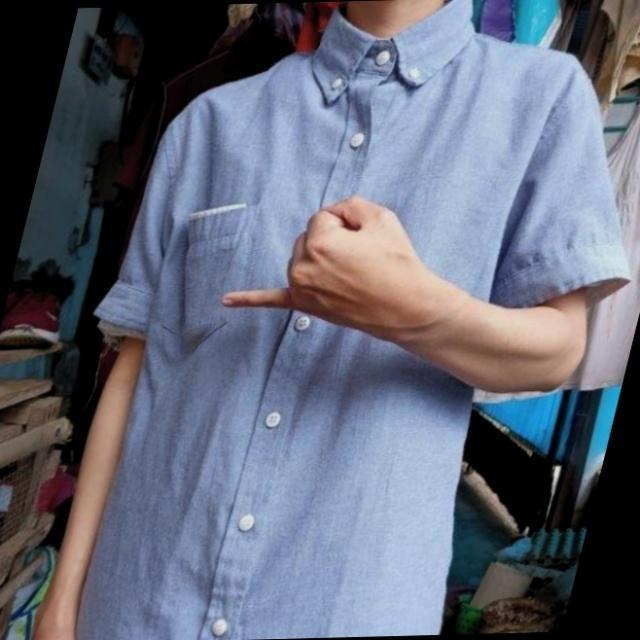J: (216, 185, 414, 332)
